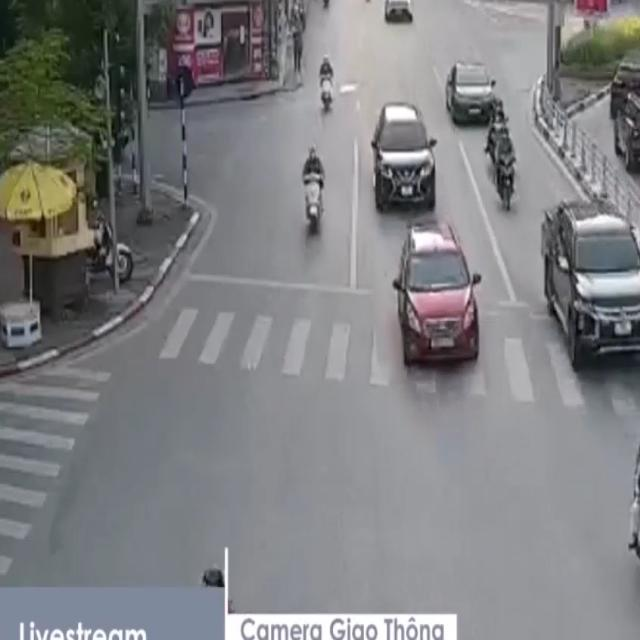car: (542, 204, 640, 369), (394, 226, 482, 363), (370, 101, 437, 212), (446, 61, 496, 126), (384, 1, 414, 25)
motorbike: (299, 145, 327, 238), (493, 125, 518, 217), (317, 53, 337, 116)
